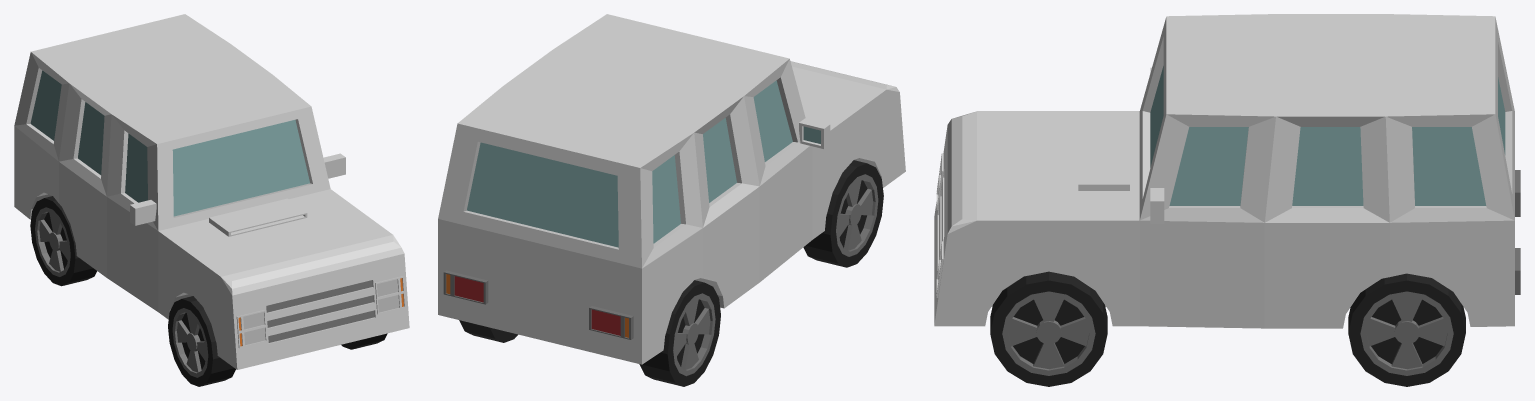
The model's file is SuvCar.fbx.
3 renders of one model, left to right at view 1: azimuth 30°, elevation 25°; view 2: azimuth 150°, elevation 25°; view 3: azimuth 270°, elevation 25°, orthographic. The views are drawn at different scales.
Parts seen in each view (by area): view 1: MainColor, Main, FRightTire, RRightTire; view 2: MainColor, Main, FRightTire, RRightTire, RLeftTire; view 3: MainColor, Main, FLeftTire, RLeftTire.
Part boxes in pixels (x1,y1,x2,y2): MainColor: (14, 14, 409, 369); Main: (30, 70, 403, 346); FRightTire: (168, 296, 235, 386); RRightTire: (30, 196, 96, 286); MainColor: (438, 14, 905, 364); Main: (443, 80, 820, 339); FRightTire: (803, 160, 883, 267); RRightTire: (639, 280, 720, 386); RLeftTire: (459, 320, 517, 342); MainColor: (934, 14, 1514, 328); Main: (938, 66, 1520, 294); FLeftTire: (990, 271, 1107, 386); RLeftTire: (1348, 273, 1465, 386).
Size of the model in its own units: 147 by 135 by 271.
